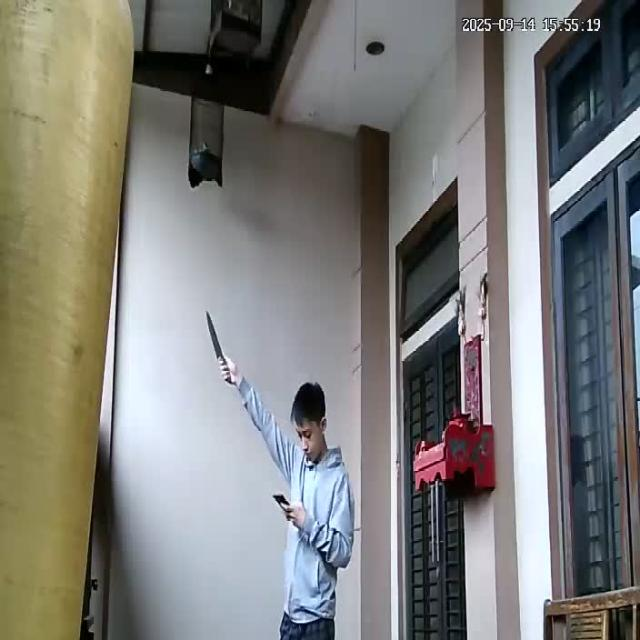senjata_tajam: (204, 308, 223, 359)
